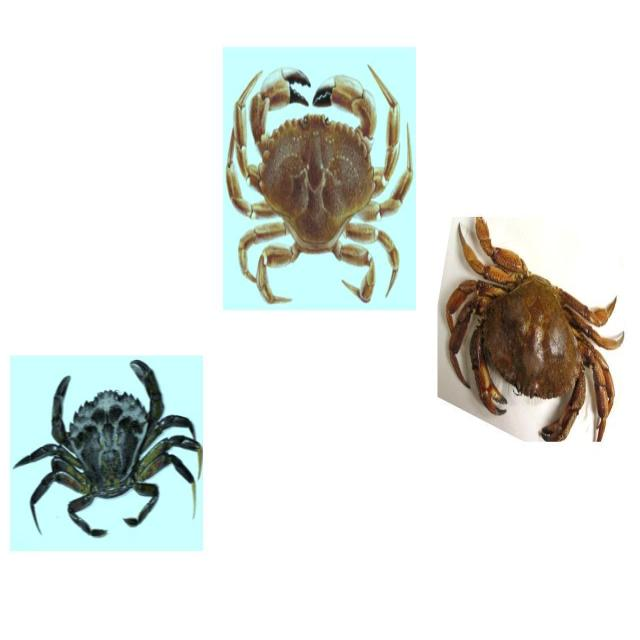egc: (13, 358, 203, 540)
